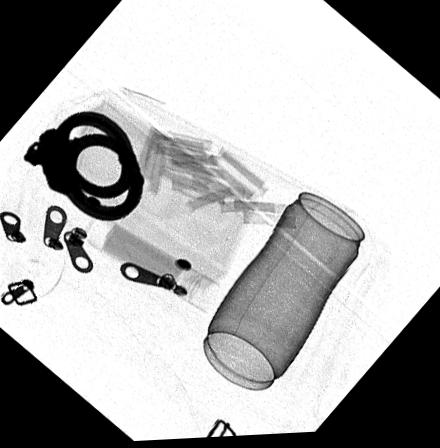HandCuffs: (23, 110, 146, 222)
